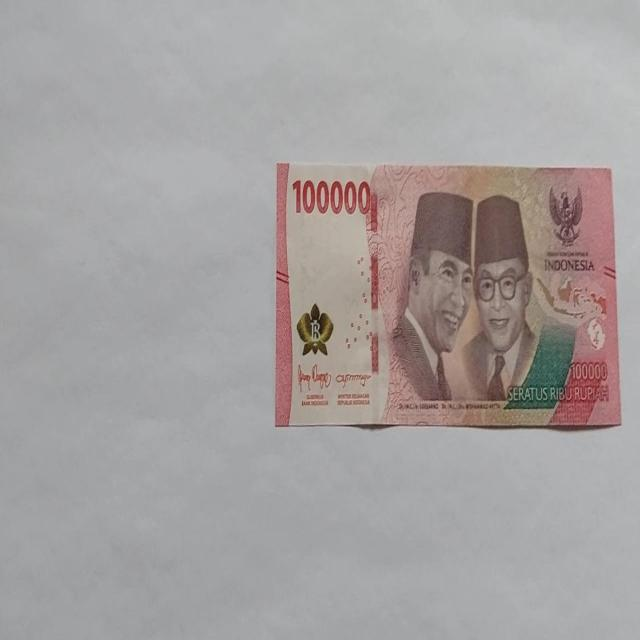Kertas: (275, 160, 621, 430), (291, 176, 371, 217)
